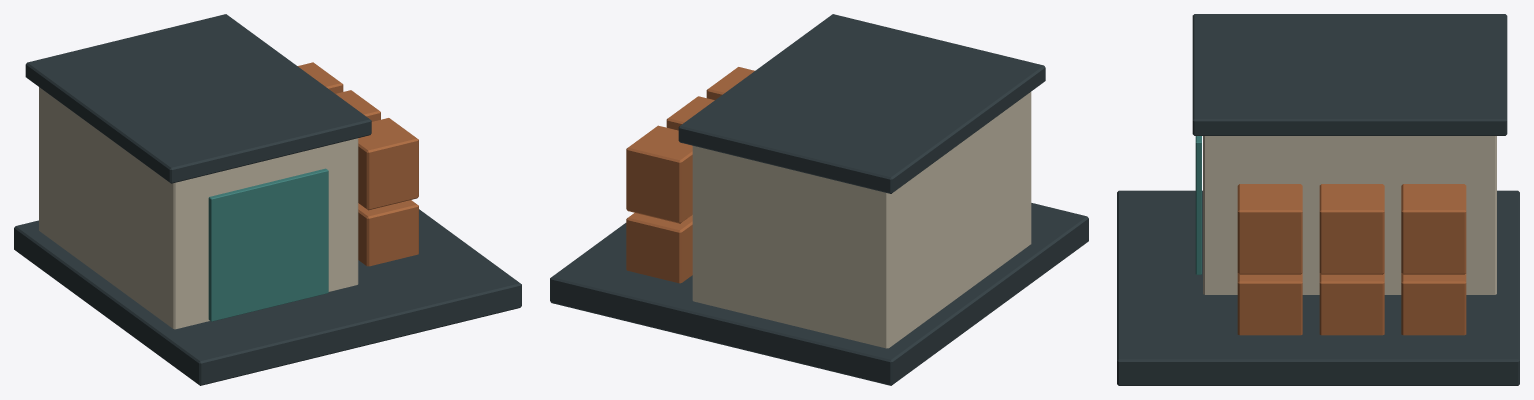
File: storage-lod0.732b2a7ec78a.glb
3 views of the same model, side by side, from view 1: azimuth 30°, elevation 25°; view 2: azimuth 150°, elevation 25°; view 3: azimuth 270°, elevation 25° (orthographic). The views are drawn at different scales.
Visible parts, largest first — view 1: body; view 2: body; view 3: body.
Boxes of the visible parts, x1,y1,x2,y2 form: body: (14, 14, 521, 385); body: (550, 14, 1088, 385); body: (1117, 14, 1519, 385).
Size of the model in its own units: 3.84 by 2.17 by 3.84.
